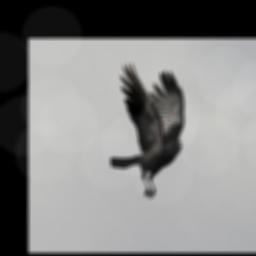Crow: (108, 60, 185, 201)
